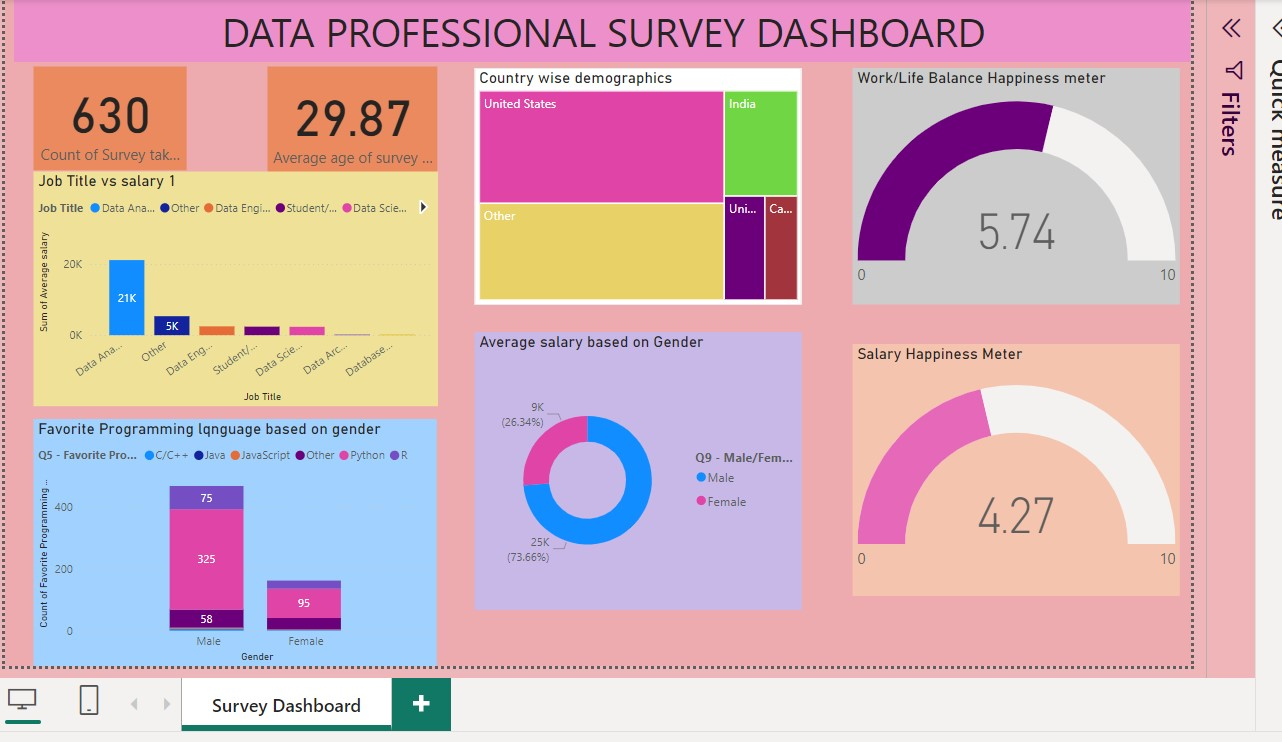

The dashboard page shown, as its layout file describes it:
{"tool":"powerbi","page":{"name":"Survey Dashboard","canvas":[1280,720],"ordinal":0},"visuals":[{"type":"textbox","box":[9.4,0,1269.9,68],"z":0},{"type":"card","fields":{"Values":["Data Professional Survey.Count of Survey"]},"box":[30,73.3,165,111.7],"z":1000},{"type":"card","title":"Average age of survey takers","fields":{"Values":["Avg(Data Professional Survey.Q10 - Current Age)"]},"box":[283.3,73.3,183.3,118.3],"z":2000},{"type":"columnChart","title":"Job Title vs salary 1","fields":{"Category":["Data Professional Survey.Q1 - Which Title Best Fits your Current Role?.1"],"Y":["Sum(Data Professional Survey.Average salary)"],"Series":["Data Professional Survey.Q1 - Which Title Best Fits your Current Role?.1"]},"box":[30,186.7,436.7,253.3],"z":3000},{"type":"columnChart","title":"Favorite Programming lqnguage based on gender","fields":{"Y":["CountNonNull(Data Professional Survey.Q5 - Favorite Programming Language.1)"],"Series":["Data Professional Survey.Q5 - Favorite Programming Language.1"],"Category":["Data Professional Survey.Q9 - Male/Female?"]},"box":[30.8,453.4,435.6,267.2],"z":3001},{"type":"treemap","title":"Country  wise demographics","fields":{"Group":["Data Professional Survey.Q11 - Which Country do you live in?.1"],"Values":["Data Professional Survey.Count of Country"]},"box":[506.7,75,353.3,255],"z":3002},{"type":"gauge","title":"Work/Life Balance Happiness meter","fields":{"Y":["Avg(Data Professional Survey.Q6 - How Happy are you in your Current Position with the following? (Work/Life Balance))"],"MinValue":["Min(Data Professional Survey.Q6 - How Happy are you in your Current Position with the following? (Work/Life Balance))"],"MaxValue":["Max(Data Professional Survey.Q6 - How Happy are you in your Current Position with the following? (Work/Life Balance))1"]},"box":[915,75,353.3,255],"z":3003},{"type":"gauge","title":"Salary Happiness Meter","fields":{"Y":["Avg(Data Professional Survey.Q6 - How Happy are you in your Current Position with the following? (Salary))"],"MinValue":["Min(Data Professional Survey.Q6 - How Happy are you in your Current Position with the following? (Salary))1"],"MaxValue":["Max(Data Professional Survey.Q6 - How Happy are you in your Current Position with the following? (Salary))2"]},"box":[915,371.7,353.3,271.7],"z":3004},{"type":"donutChart","title":"Average salary based on Gender","fields":{"Category":["Data Professional Survey.Q9 - Male/Female?"],"Y":["Sum(Data Professional Survey.Average salary)"]},"box":[506.7,360,353.3,300],"z":3006}]}

Visuals, with their boxes on the page's 1280x720 design canvas (x1, y1, x2, y2). These are canvas units, not pixel positions in the 1282x742 screenshot, which may show the page scaled, cropped or inside an application window:
textbox: 9, 0, 1279, 68
card - Data Professional Survey.Count of Survey: 30, 73, 195, 185
"Average age of survey takers" card: 283, 73, 467, 192
"Job Title vs salary 1" columnChart: 30, 187, 467, 440
"Favorite Programming lqnguage based on gender" columnChart: 31, 453, 466, 721
"Country  wise demographics" treemap: 507, 75, 860, 330
"Work/Life Balance Happiness meter" gauge: 915, 75, 1268, 330
"Salary Happiness Meter" gauge: 915, 372, 1268, 643
"Average salary based on Gender" donutChart: 507, 360, 860, 660
